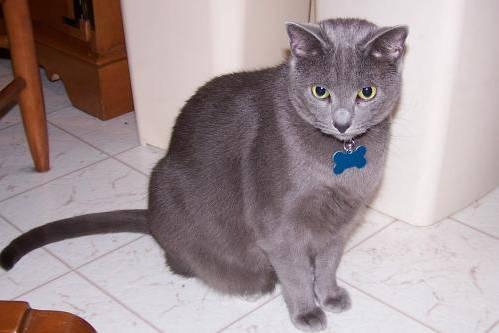cat: (0, 18, 407, 330)
